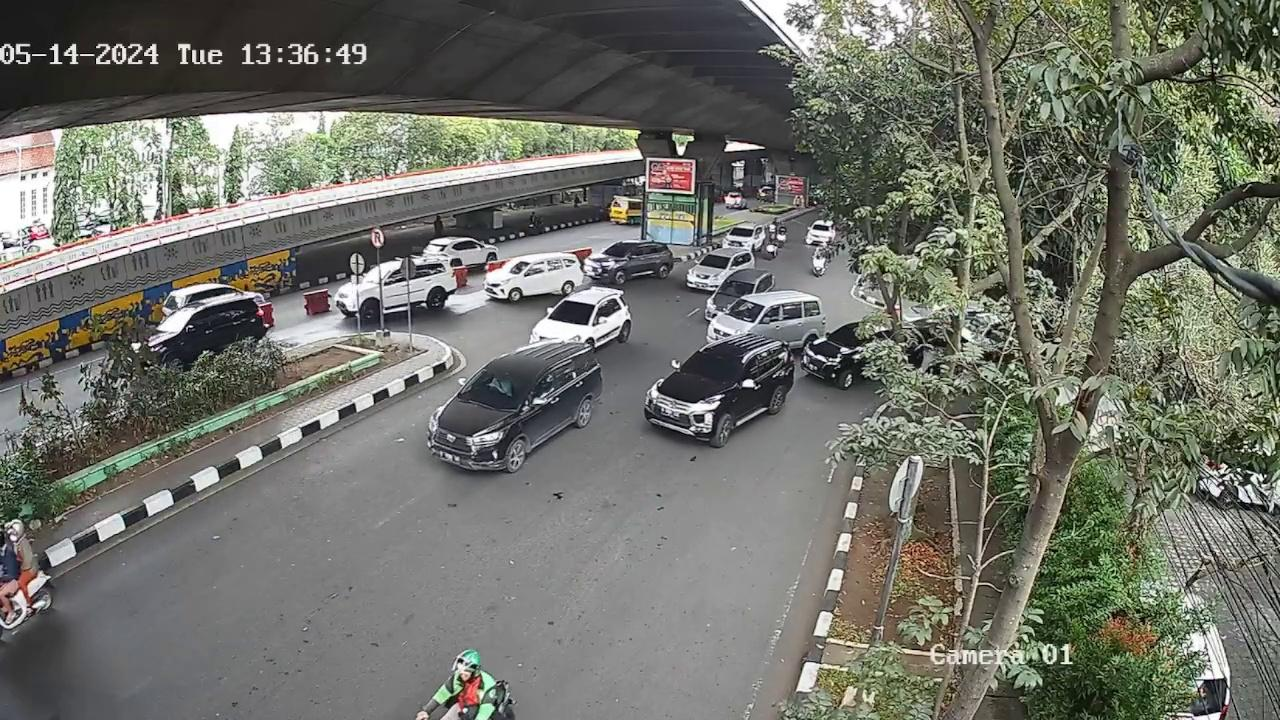pakai: (485, 375, 513, 397)
windshield: (461, 367, 534, 410), (679, 351, 746, 381), (542, 296, 600, 327)
